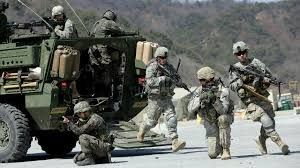gun: (155, 56, 196, 98), (229, 62, 284, 86), (6, 13, 64, 30), (199, 77, 235, 102), (46, 110, 89, 123)
uniform: (231, 62, 282, 147), (144, 60, 181, 146), (193, 83, 231, 154), (72, 116, 116, 164), (90, 16, 117, 92)
